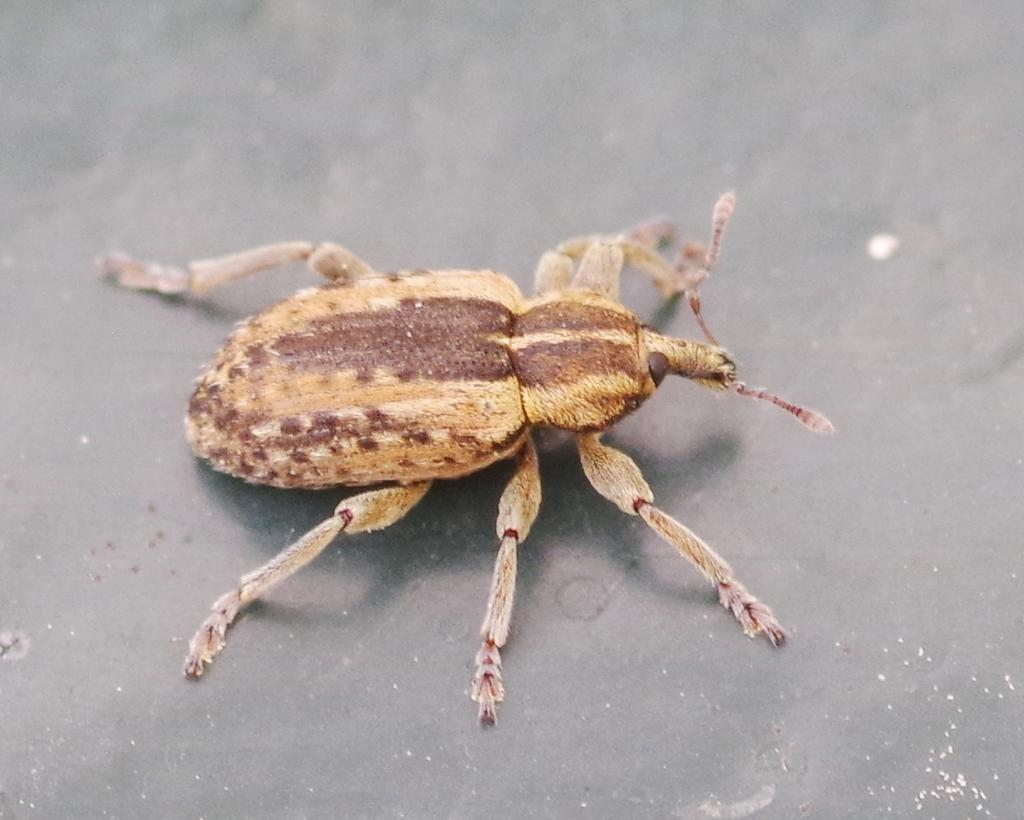weevils: (31, 155, 908, 797)
